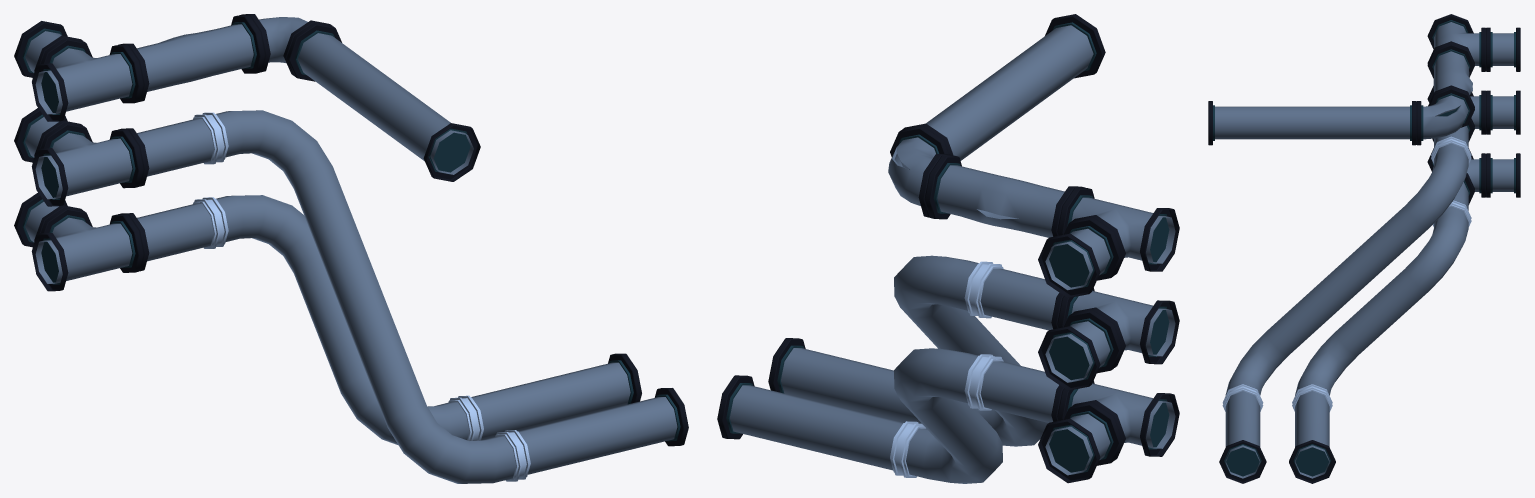
File: PipeComplexSmall_A_23.fbx
3 renders of one model, left to right at view 1: azimuth 30°, elevation 25°; view 2: azimuth 150°, elevation 25°; view 3: azimuth 270°, elevation 25°, orthographic. The views are drawn at different scales.
Visible parts, largest first — view 1: PipeComplexSmall_A_23.001; view 2: PipeComplexSmall_A_23.001; view 3: PipeComplexSmall_A_23.001.
Boxes of the visible parts, x1,y1,x2,y2 form: PipeComplexSmall_A_23.001: [14, 14, 688, 483]; PipeComplexSmall_A_23.001: [717, 14, 1179, 483]; PipeComplexSmall_A_23.001: [1208, 14, 1520, 483].
Bounding box in the file's own units: 1.2 × 0.9356 × 0.9.
